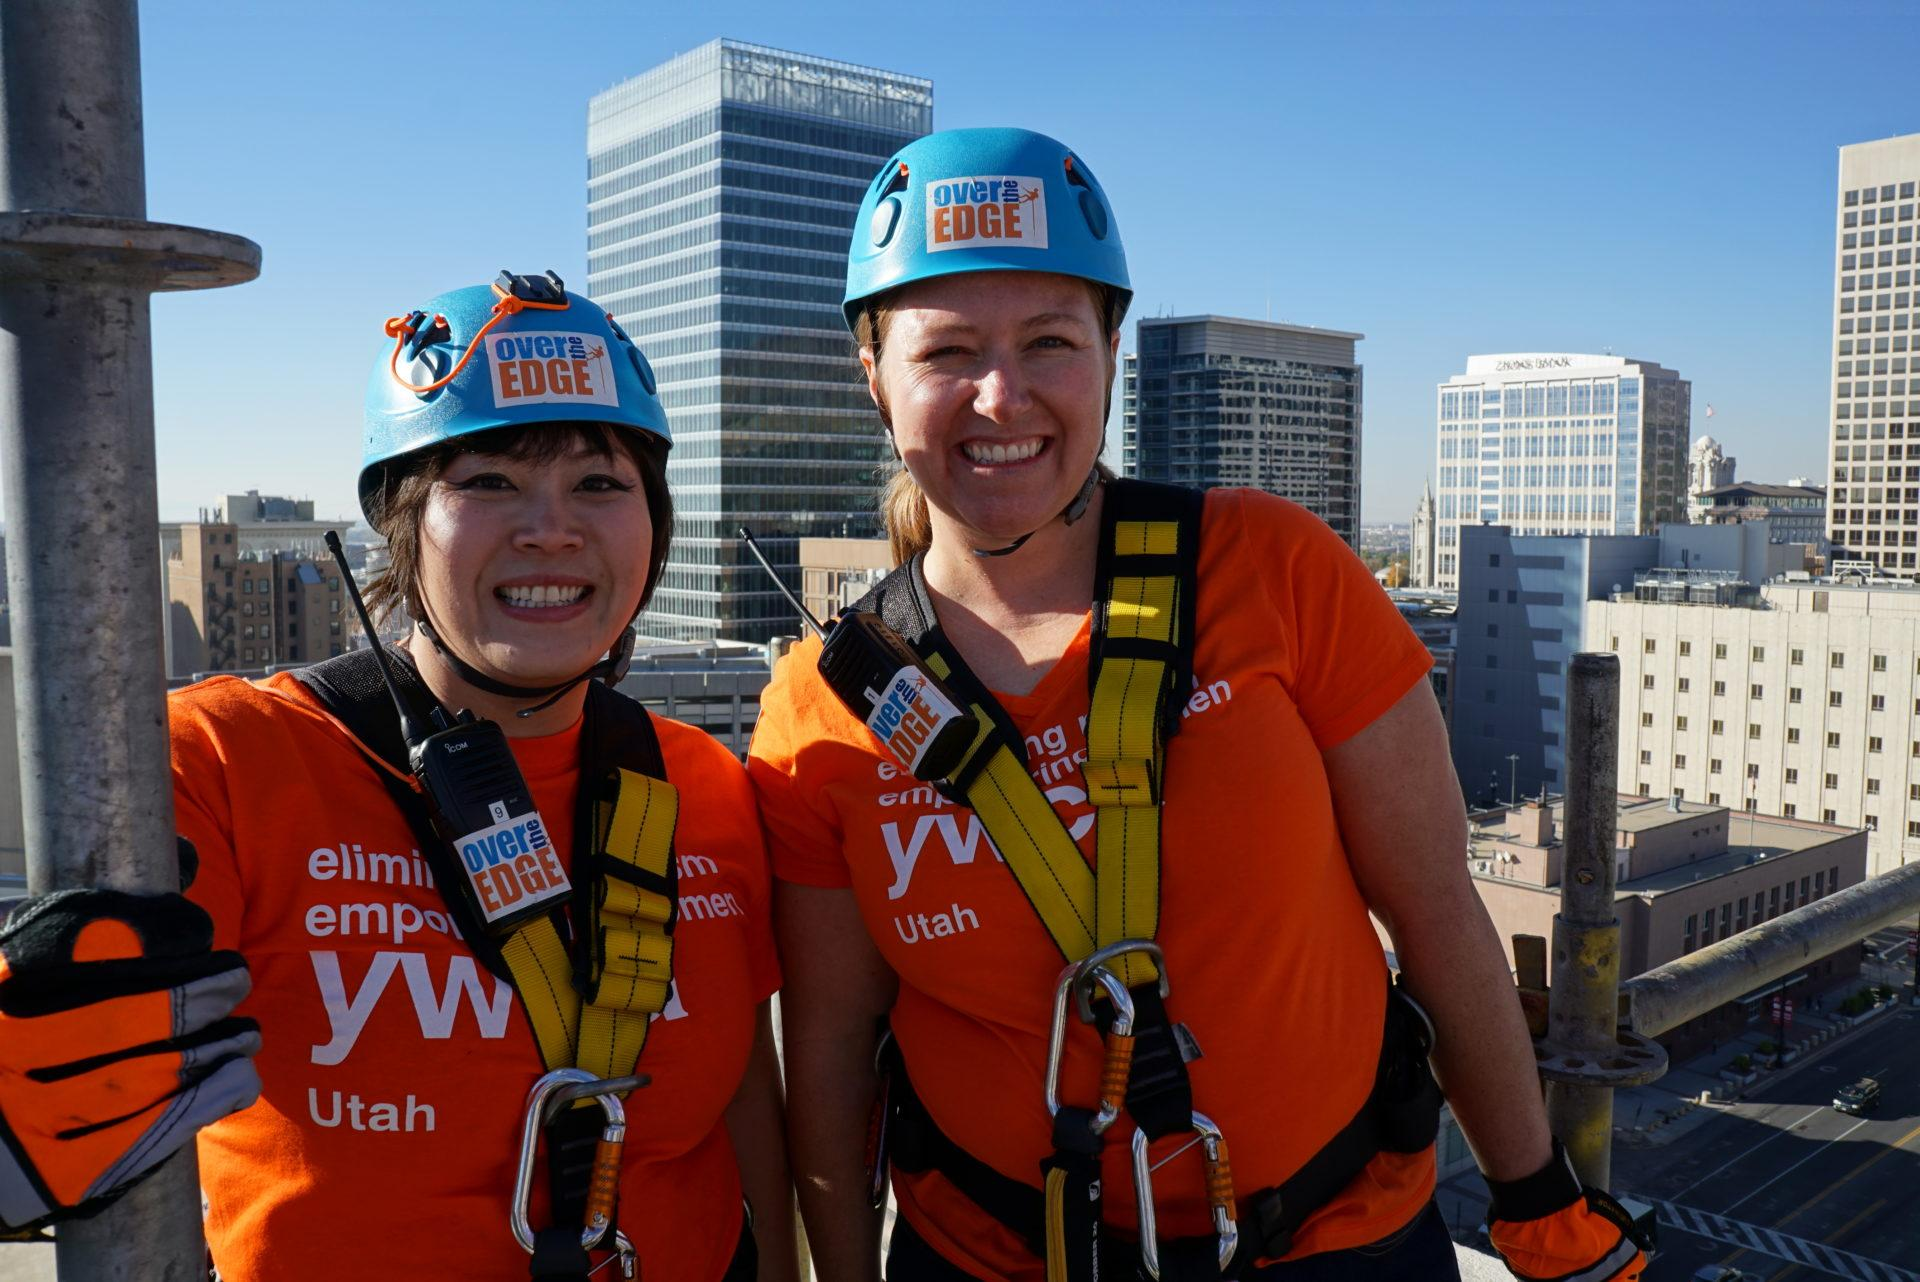helmet: (348, 278, 667, 501), (844, 129, 1146, 320)
